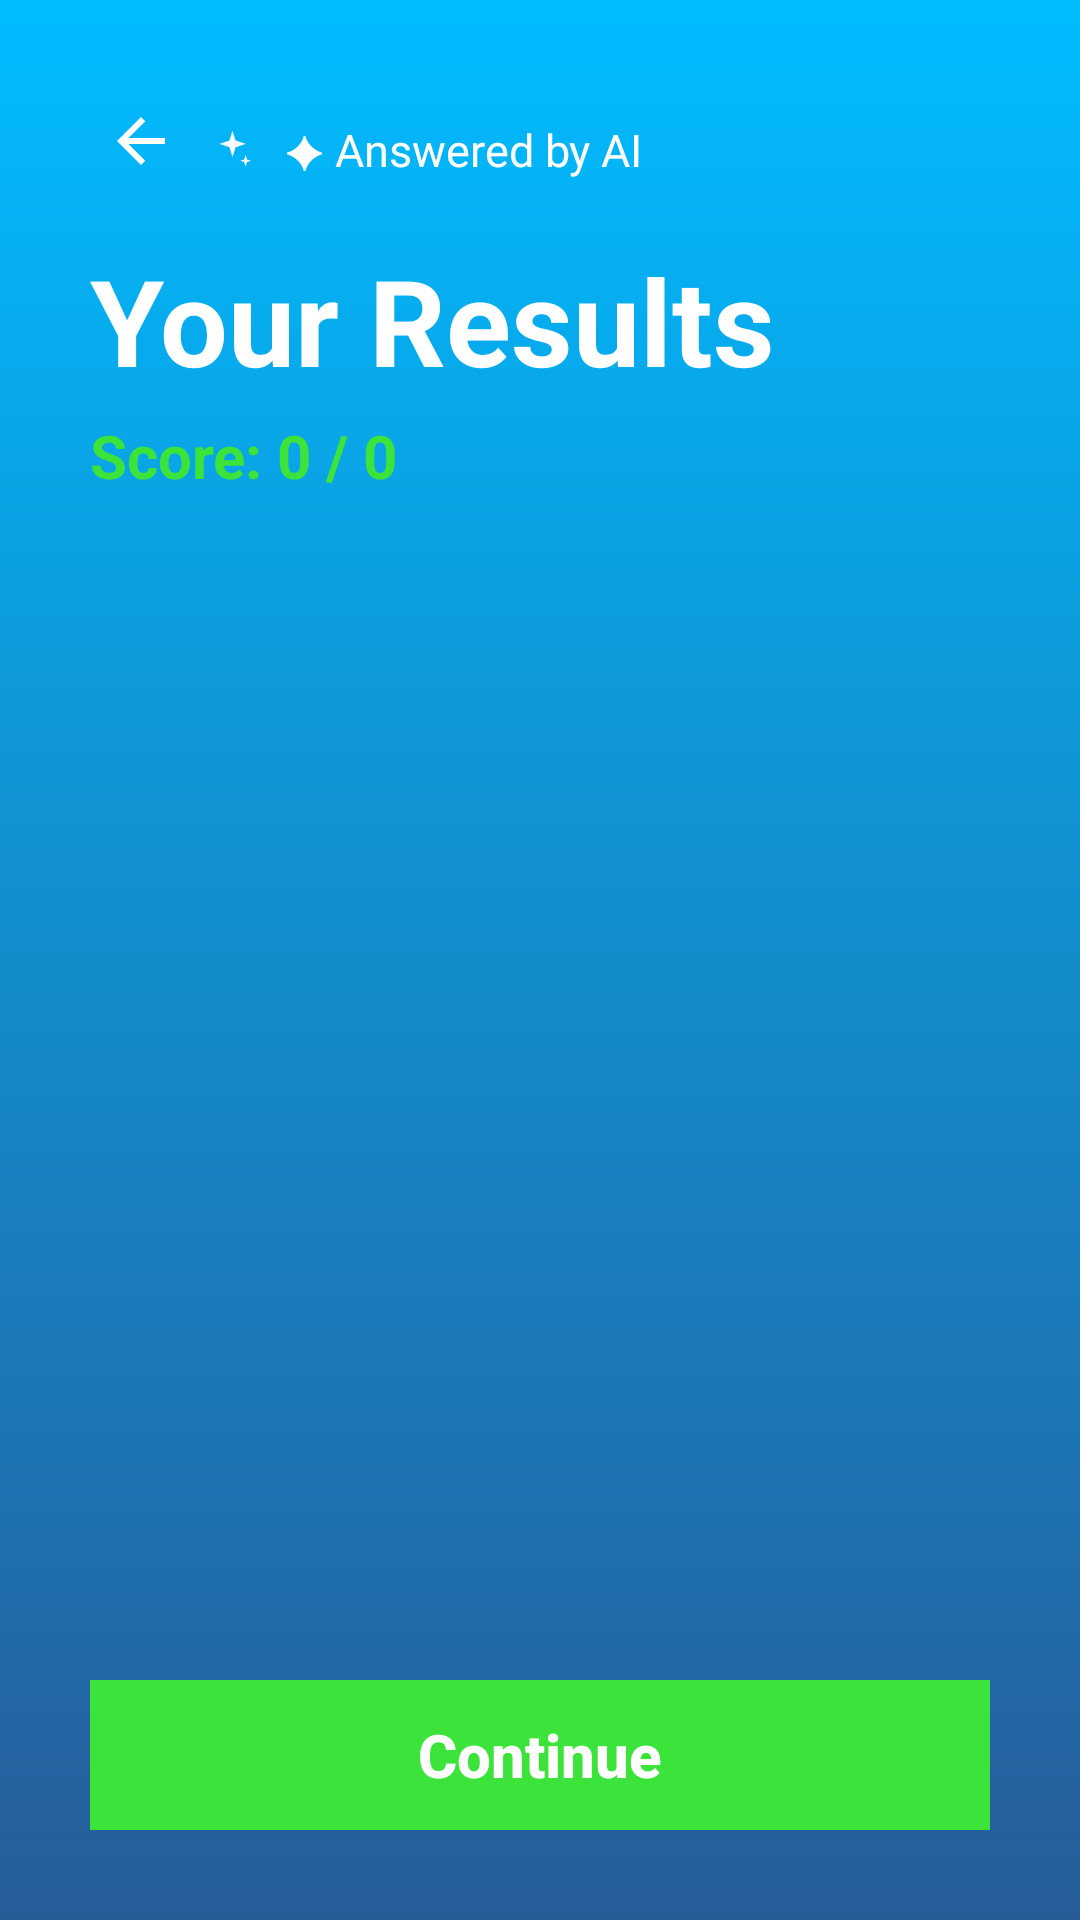

Where icons sit on this 1080×1920 app screen, as (x1, y1, x2, y2):
Back: (117, 117, 165, 165)
sparkle: (219, 131, 251, 166)
